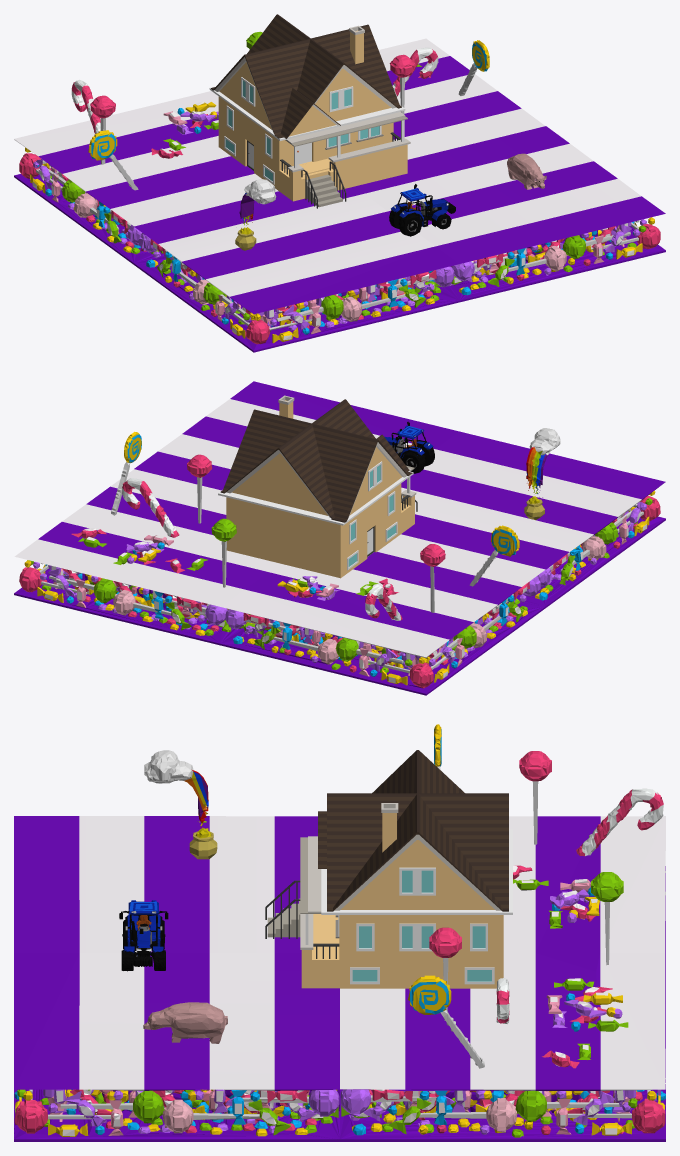
3 views of the same model, one above another, from view 1: azimuth 30°, elevation 25°; view 2: azimuth 150°, elevation 25°; view 3: azimuth 270°, elevation 25° (orthographic). The views are drawn at different scales.
Visible parts, largest first — view 1: TERRAIN_CANDY, Cube.235, VEHICLES_TRACTOR, OBJRANDOM_RAINBOW, ANIMAL_HIPOPOTAMO; view 2: TERRAIN_CANDY, Cube.235, OBJRANDOM_RAINBOW, VEHICLES_TRACTOR; view 3: TERRAIN_CANDY, Cube.235, VEHICLES_TRACTOR, OBJRANDOM_RAINBOW, ANIMAL_HIPOPOTAMO.
Part boxes in pixels (x1,y1,x2,y2): TERRAIN_CANDY: (14, 31, 665, 352); Cube.235: (209, 14, 410, 208); VEHICLES_TRACTOR: (389, 184, 455, 236); OBJRANDOM_RAINBOW: (235, 179, 276, 250); ANIMAL_HIPOPOTAMO: (507, 153, 546, 189); TERRAIN_CANDY: (14, 381, 665, 695); Cube.235: (218, 395, 417, 578); OBJRANDOM_RAINBOW: (524, 428, 560, 520); VEHICLES_TRACTOR: (384, 421, 434, 473); TERRAIN_CANDY: (14, 724, 665, 1141); Cube.235: (265, 750, 512, 988); VEHICLES_TRACTOR: (119, 900, 168, 971); OBJRANDOM_RAINBOW: (144, 750, 217, 859); ANIMAL_HIPOPOTAMO: (143, 1002, 227, 1043).
Size of the model in its own units: 4059 by 1588 by 4000.
31 materials, 2 textured.
